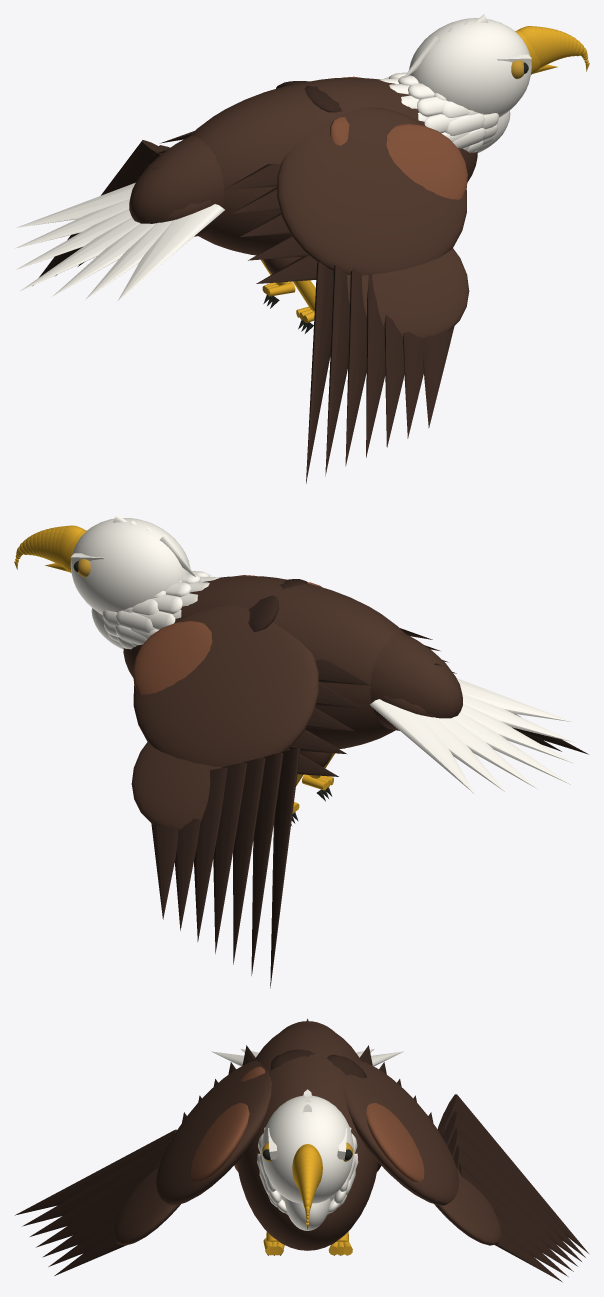
File: eagle.glb
3 views of the same model, one above another, from view 1: azimuth 30°, elevation 25°; view 2: azimuth 150°, elevation 25°; view 3: azimuth 270°, elevation 25° (orthographic). The views are drawn at different scales.
Visible parts, largest first — view 1: wing_inner_L, body, tail, head_dome, wing_mid_L, rump, wing_covert_L, primary_L_6, primary_L_5, primary_L_4, primary_L_3, primary_L_2 (+7 smaller); view 2: wing_inner_R, body, tail, head_dome, rump, wing_mid_R, wing_covert_R, primary_R_5, primary_R_6, primary_R_4, primary_R_3, primary_R_2 (+5 smaller); view 3: body, wing_inner_L, wing_inner_R, head_dome, wing_mid_L, wing_covert_L, wing_covert_R, wing_mid_R, primary_R_6, primary_R_5, primary_R_4, primary_L_6 (+14 smaller).
Boxes of the visible parts, left/top/right/bottom form: wing_inner_L: left=277, top=107, right=466, bottom=275; body: left=188, top=78, right=477, bottom=255; tail: left=15, top=182, right=224, bottom=301; head_dome: left=409, top=18, right=531, bottom=117; wing_mid_L: left=332, top=248, right=469, bottom=338; rump: left=129, top=136, right=224, bottom=236; wing_covert_L: left=386, top=124, right=467, bottom=199; primary_L_6: left=306, top=262, right=333, bottom=483; primary_L_5: left=325, top=265, right=349, bottom=476; primary_L_4: left=345, top=268, right=366, bottom=466; primary_L_3: left=366, top=273, right=385, bottom=457; primary_L_2: left=384, top=314, right=404, bottom=447; wing_inner_R: left=133, top=605, right=318, bottom=767; body: left=123, top=576, right=405, bottom=749; tail: left=370, top=678, right=574, bottom=793; head_dome: left=70, top=518, right=190, bottom=614; rump: left=370, top=632, right=462, bottom=730; wing_mid_R: left=131, top=742, right=221, bottom=829; wing_covert_R: left=133, top=621, right=212, bottom=694; primary_R_5: left=251, top=753, right=283, bottom=975; primary_R_6: left=270, top=747, right=300, bottom=988; primary_R_4: left=233, top=758, right=266, bottom=964; primary_R_3: left=213, top=762, right=247, bottom=953; primary_R_2: left=194, top=767, right=227, bottom=941; body: left=236, top=1024, right=378, bottom=1250; wing_inner_L: left=156, top=1060, right=271, bottom=1205; wing_inner_R: left=343, top=1060, right=459, bottom=1205; head_dome: left=261, top=1095, right=353, bottom=1203; wing_mid_L: left=114, top=1162, right=180, bottom=1245; wing_covert_L: left=191, top=1103, right=249, bottom=1181; wing_covert_R: left=365, top=1103, right=424, bottom=1181; wing_mid_R: left=434, top=1169, right=501, bottom=1245; primary_R_6: left=437, top=1094, right=588, bottom=1253; primary_R_5: left=443, top=1111, right=585, bottom=1257; primary_R_4: left=448, top=1128, right=581, bottom=1261; primary_L_6: left=15, top=1129, right=176, bottom=1215.
Size of the model in its own units: 1.62 by 0.8291 by 1.48.
